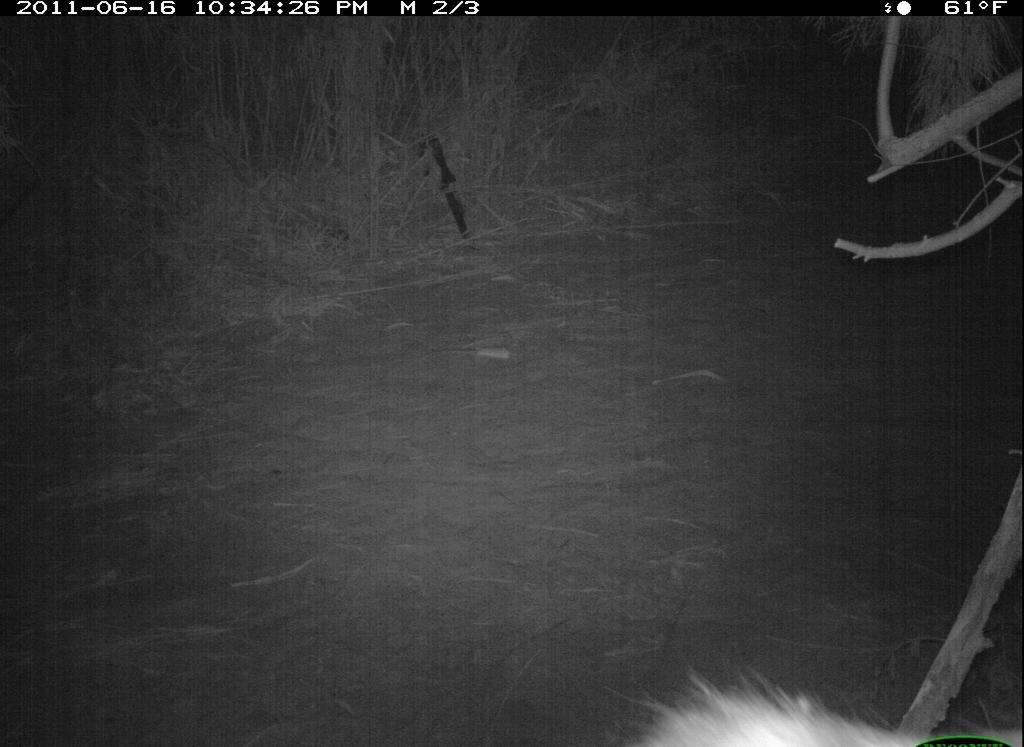raccoon: (605, 661, 1023, 747)
